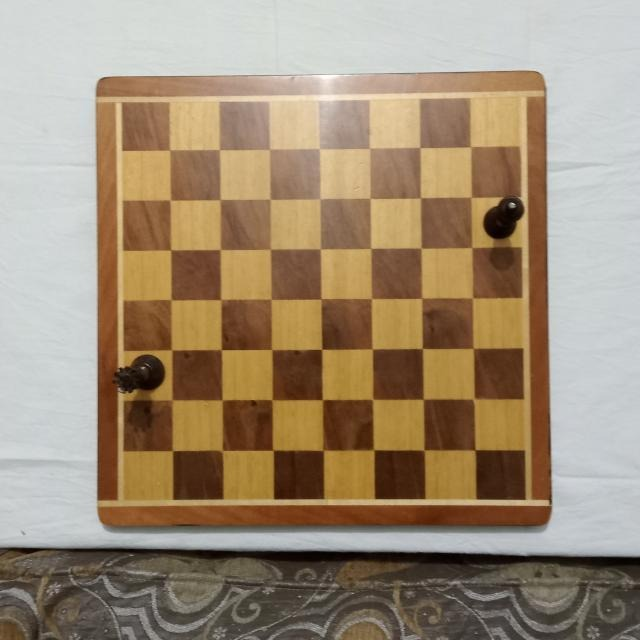black-king: (483, 194, 527, 239)
black-queen: (110, 353, 166, 396)
